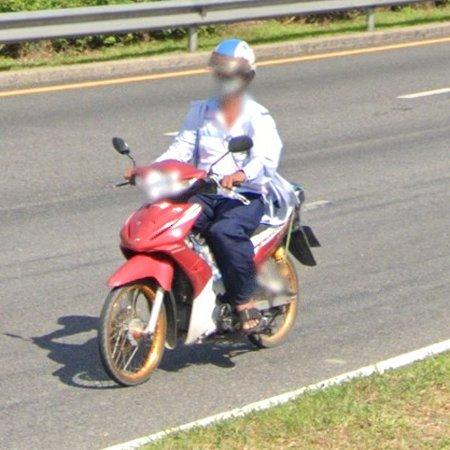motorcycles: (250, 187, 320, 348)
